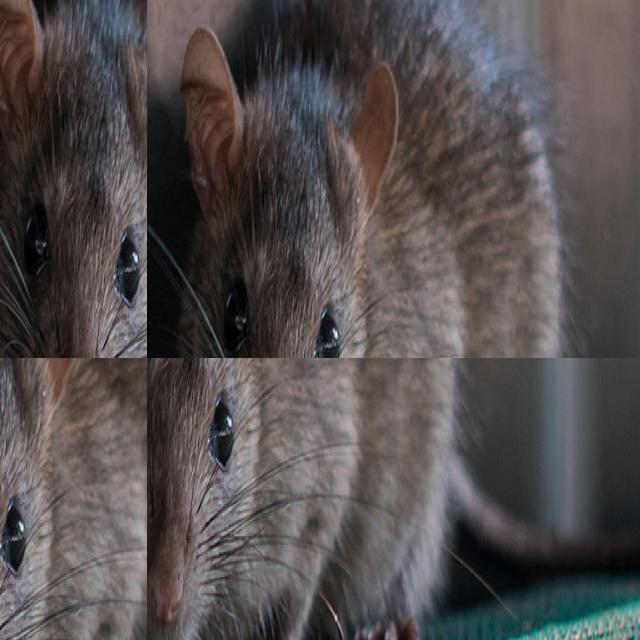rat: (147, 358, 446, 640)
